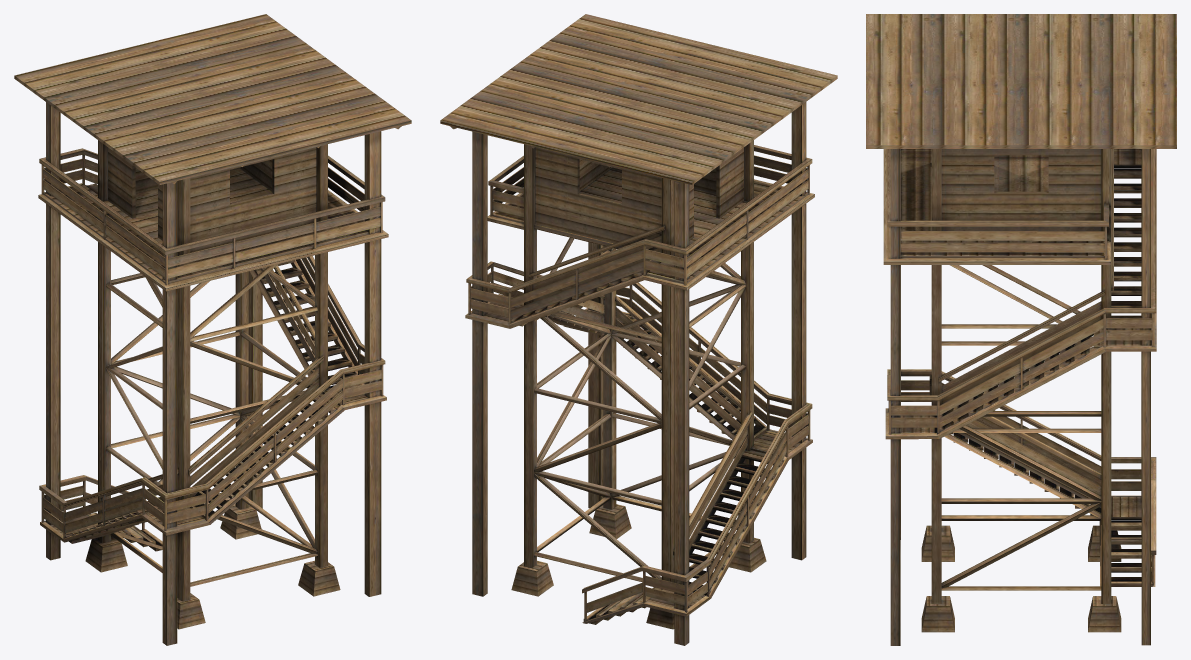
File: tower.glb
3 views of the same model, side by side, from view 1: azimuth 30°, elevation 25°; view 2: azimuth 150°, elevation 25°; view 3: azimuth 270°, elevation 25° (orthographic). The views are drawn at different scales.
Visible parts, largest first — view 1: watchtowerHigh_watchtower; view 2: watchtowerHigh_watchtower; view 3: watchtowerHigh_watchtower.
Boxes of the visible parts, x1,y1,x2,y2 form: watchtowerHigh_watchtower: (14,14,411,645); watchtowerHigh_watchtower: (440,14,837,645); watchtowerHigh_watchtower: (866,14,1176,645).
Size of the model in its own units: 4.22 by 7.65 by 4.22.
1 material, 1 textured.
